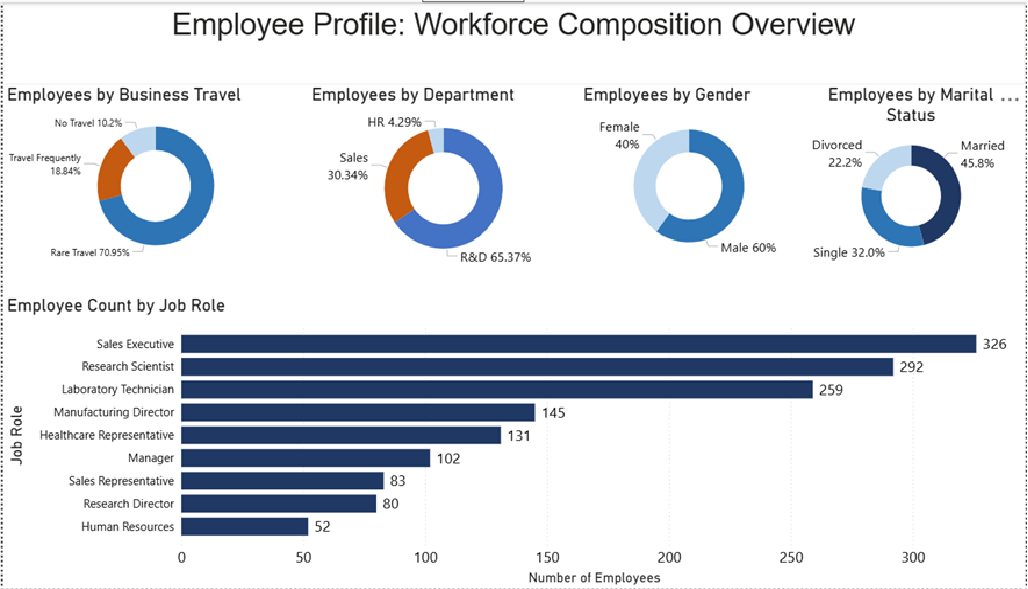

The dashboard page shown, as its layout file describes it:
{"tool":"powerbi","page":{"name":"Employees Profile","canvas":[1280,720],"ordinal":2},"visuals":[{"type":"donutChart","title":"Employees by  Gender","fields":{"Category":["HR_cleaned.Gender"],"Y":["CountNonNull(HR_cleaned.Gender)"]},"box":[721.9,100.2,274,224.9],"z":0},{"type":"donutChart","title":"Employees by  Department","fields":{"Category":["HR_cleaned.Department"],"Y":["CountNonNull(HR_cleaned.Department)"]},"box":[381.7,100.2,340.2,230.6],"z":1000},{"type":"donutChart","title":"Employees by  Marital Status ","fields":{"Category":["HR_cleaned.MaritalStatus"],"Y":["CountNonNull(HR_cleaned.MaritalStatus)"]},"box":[995.9,100.2,283.5,224.9],"z":2000},{"type":"donutChart","title":"Employees by Business Travel ","fields":{"Category":["HR_cleaned.BusinessTravel"],"Y":["CountNonNull(HR_cleaned.BusinessTravel)"]},"box":[0,100.2,381.7,224.9],"z":3000},{"type":"clusteredBarChart","title":"Employee Count by Job Role ","fields":{"Category":["HR_cleaned.JobRole"],"Y":["CountNonNull(HR_cleaned.JobRole)"]},"box":[0,359.1,1279.4,360.9],"z":4000},{"type":"textbox","box":[0,0,1279.4,100.2],"z":5000}]}

Visuals, with their boxes in screenshot pixels (x1, y1, x2, y2), scaled from the page's 1280x720 canvas onto the 1028x589 screenshot:
"Employees by  Gender" donutChart: 580, 82, 800, 266
"Employees by  Department" donutChart: 307, 82, 580, 271
"Employees by  Marital Status " donutChart: 800, 82, 1027, 266
"Employees by Business Travel " donutChart: 0, 82, 307, 266
"Employee Count by Job Role " clusteredBarChart: 0, 294, 1027, 588
textbox: 0, 0, 1027, 82
